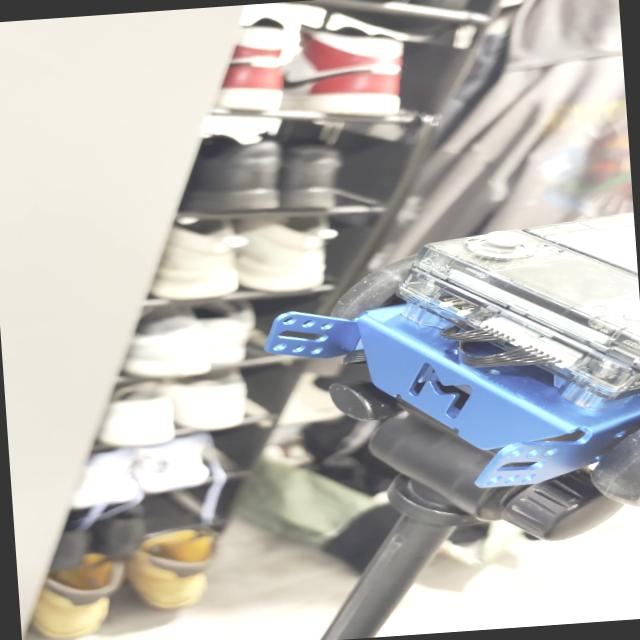mbot-detection: (250, 209, 640, 536)
